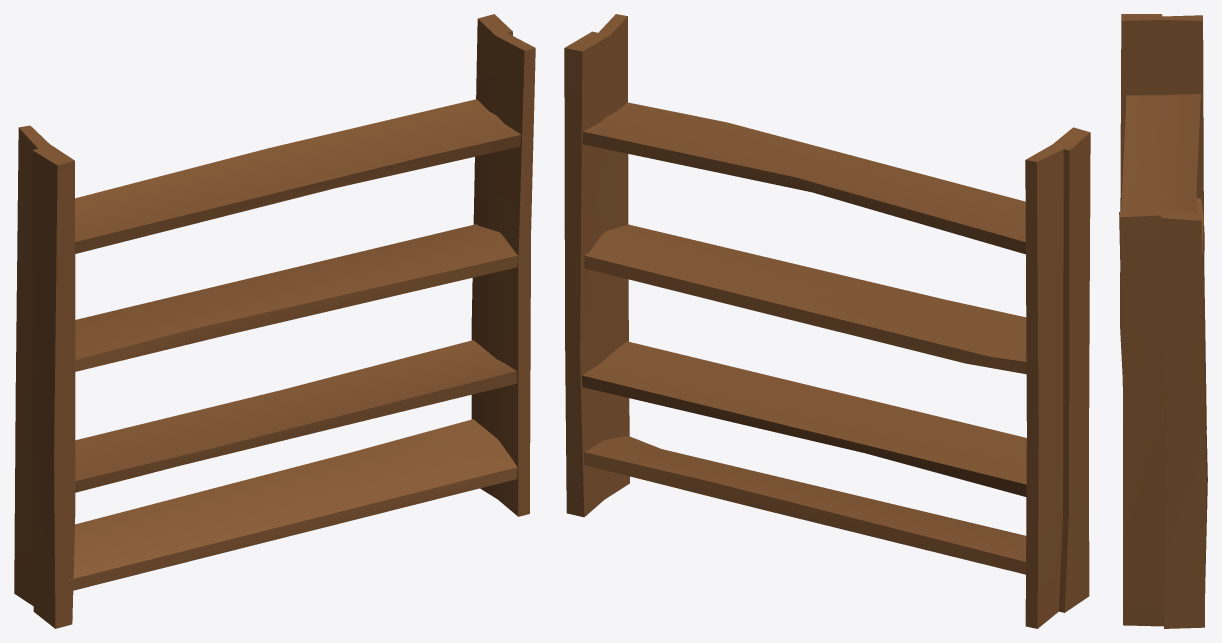
File: ShelfLarge.fbx
3 renders of one model, left to right at view 1: azimuth 30°, elevation 25°; view 2: azimuth 150°, elevation 25°; view 3: azimuth 270°, elevation 25°, orthographic. The views are drawn at different scales.
Visible parts, largest first — view 1: ShelfLarge; view 2: ShelfLarge; view 3: ShelfLarge.
Boxes of the visible parts, x1=… form: ShelfLarge: x1=14, y1=14, x2=535, y2=628; ShelfLarge: x1=564, y1=14, x2=1090, y2=628; ShelfLarge: x1=1119, y1=14, x2=1207, y2=628.
Size of the model in its own units: 208 by 192 by 37.57.
